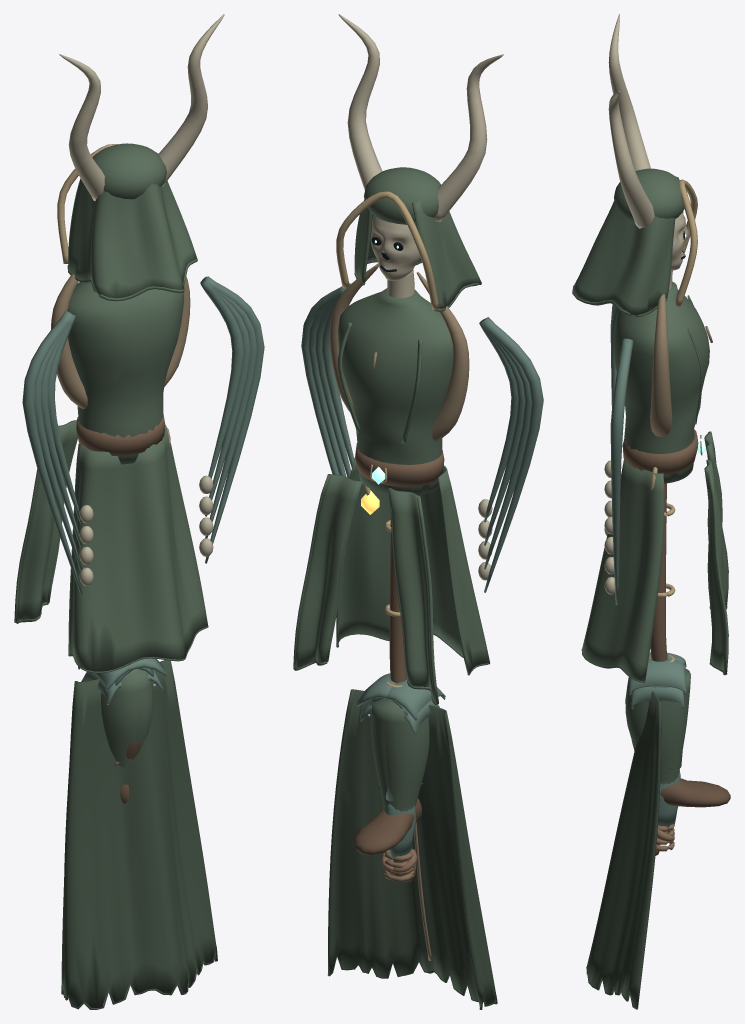
Rendered from guardian_1.glb.
3 renders of one model, left to right at view 1: azimuth 30°, elevation 25°; view 2: azimuth 150°, elevation 25°; view 3: azimuth 270°, elevation 25°, orthographic. The views are drawn at different scales.
Parts seen in each view (by area): view 1: Body__sage, Cape__sage, Body__patina, Body__bone, Weapon__bronze, LegL__sage, Body__leather, LegR__sage, ArmL__patina, Body__gold; view 2: Body__sage, Cape__sage, Body__patina, Body__bone, Weapon__bronze, LegL__sage, ArmL__patina, Body__gold, KneeL__leather, Body__leather, Weapon__leather, LegR__sage (+3 smaller); view 3: Body__sage, Cape__sage, Body__bone, Body__patina, LegR__sage, Weapon__bronze, ArmR__patina, KneeL__leather, Body__leather, Body__gold, Weapon__leather, ArmL__patina.
Boxes of the visible parts, x1,y1,x2,y2 form: Body__sage: [14, 143, 208, 673]; Cape__sage: [61, 660, 217, 1009]; Body__patina: [22, 276, 264, 593]; Body__bone: [59, 14, 224, 585]; Weapon__bronze: [51, 274, 190, 408]; LegL__sage: [101, 669, 146, 767]; Body__leather: [76, 414, 165, 455]; LegR__sage: [136, 672, 153, 747]; ArmL__patina: [78, 662, 153, 705]; Body__gold: [57, 144, 117, 263]; Body__sage: [293, 167, 490, 705]; Cape__sage: [327, 689, 497, 1009]; Body__patina: [301, 283, 543, 592]; Body__bone: [338, 14, 503, 580]; Weapon__bronze: [329, 263, 469, 441]; LegL__sage: [372, 699, 429, 809]; ArmL__patina: [369, 679, 445, 859]; Body__gold: [336, 191, 439, 483]; KneeL__leather: [353, 783, 422, 855]; Body__leather: [355, 443, 444, 486]; Weapon__leather: [389, 515, 406, 683]; LegR__sage: [370, 702, 416, 811]; Body__sage: [572, 168, 728, 682]; Cape__sage: [586, 691, 661, 1009]; Body__bone: [604, 14, 688, 594]; Body__patina: [610, 304, 633, 604]; LegR__sage: [625, 675, 690, 782]; Weapon__bronze: [650, 294, 672, 436]; ArmR__patina: [629, 659, 686, 709]; KneeL__leather: [631, 740, 730, 807]; Body__leather: [622, 429, 698, 474]; Body__gold: [674, 179, 702, 455]; Weapon__leather: [650, 483, 667, 661]; ArmL__patina: [649, 652, 686, 826].
Size of the model in its own units: 0.966 by 3.67 by 0.5719.
